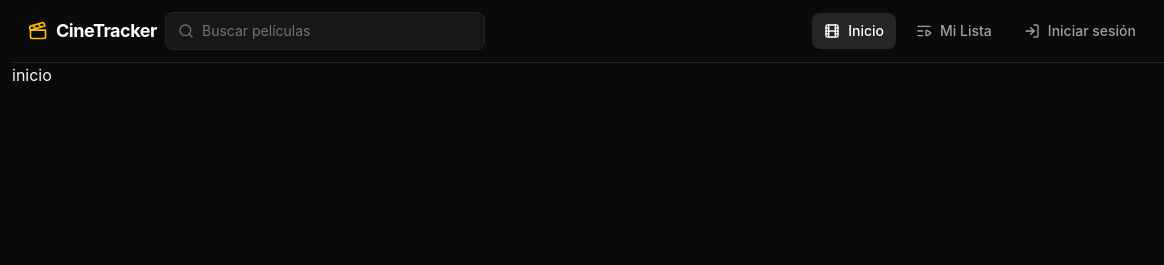
Test case: Navbar suggestions › shows trending movies when the empty input is focused
Focus the dropdown labelled "Buscar películas" at {"x": 337, "y": 31}, box [202,21,472,41]
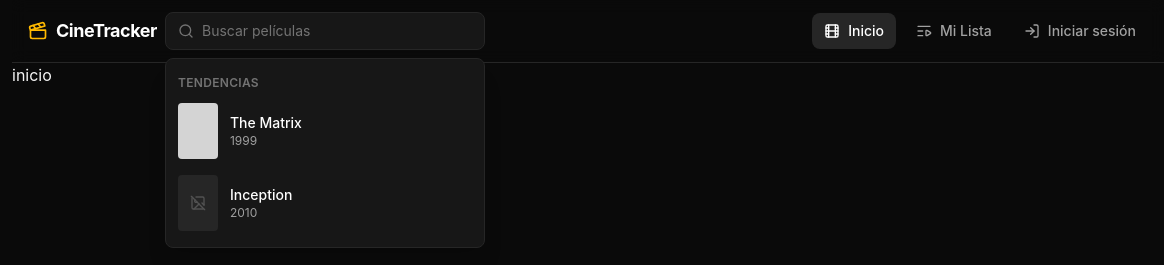
Check: the text "Tendencias" is shown, box [178,75,259,90]
Check: the option "The Matrix 1999" is shown, box [178,103,302,159]
